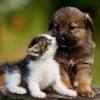cat: (26, 32, 60, 61)
dog: (48, 2, 94, 49)
